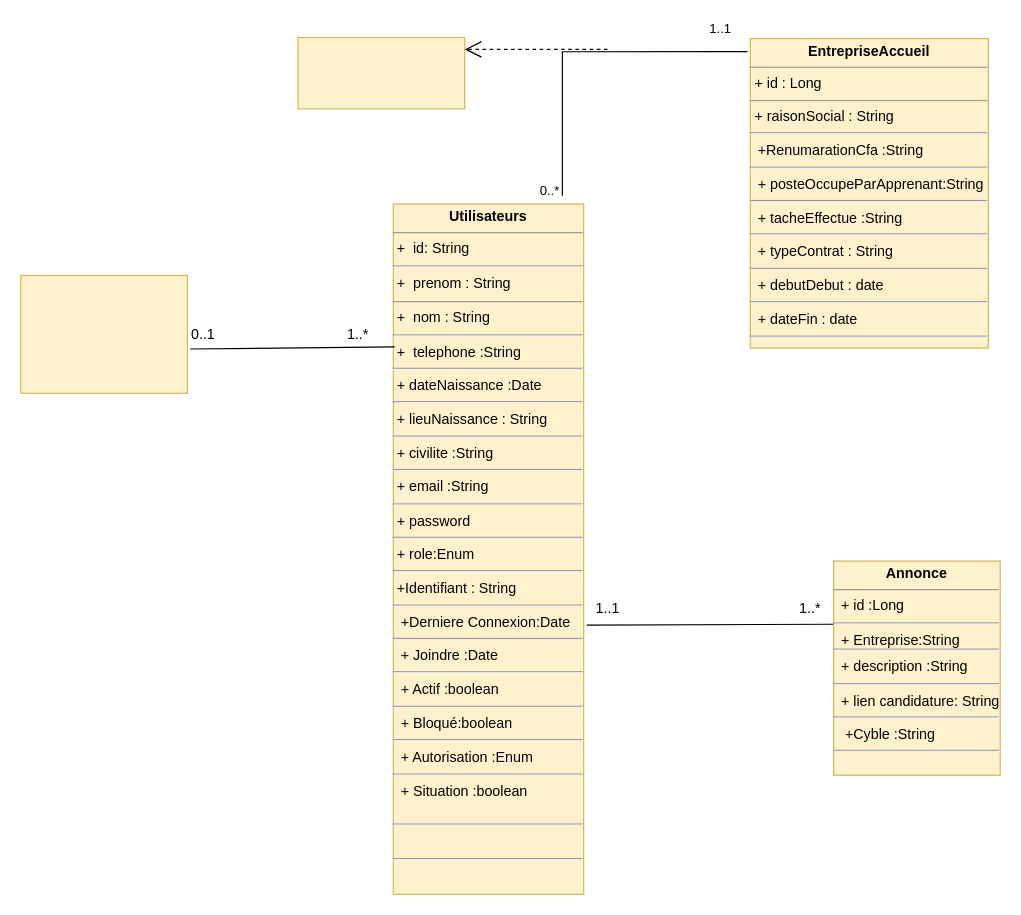
The diagram is 1021 pixels wide and 915 high, and some of its shapes have lost their labels. The shapes that lost their labels are listed below. From the top down, each one's box as (x1, y1, x2, y2) in pixels, then its label:
(297, 36, 465, 109): Entreprise_User
(20, 274, 187, 393): Promo + id :Long + libelle:String
